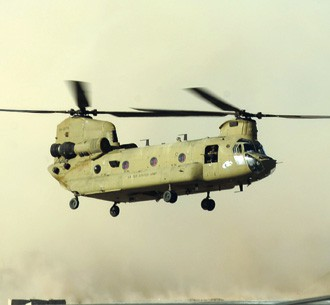chinook: (19, 82, 320, 218)
